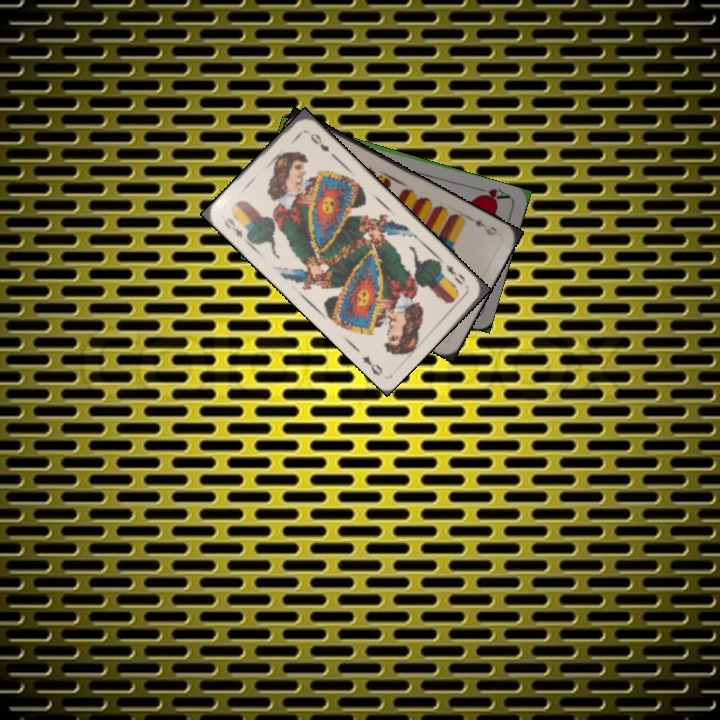E9: (465, 213, 500, 238)
EO: (442, 261, 468, 288), (220, 213, 245, 241)
HA: (473, 184, 513, 204)
